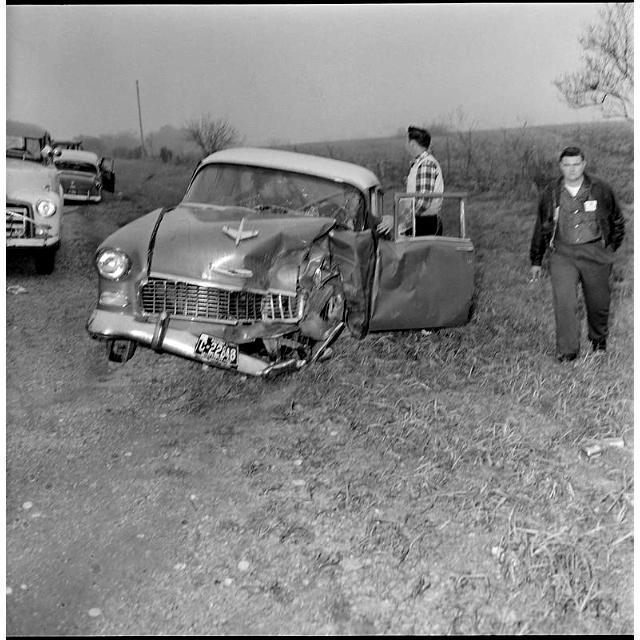bonnet-dent: (145, 217, 332, 286)
doorouter-dent: (387, 184, 475, 324)
front-bumper-dent: (107, 263, 330, 364)
